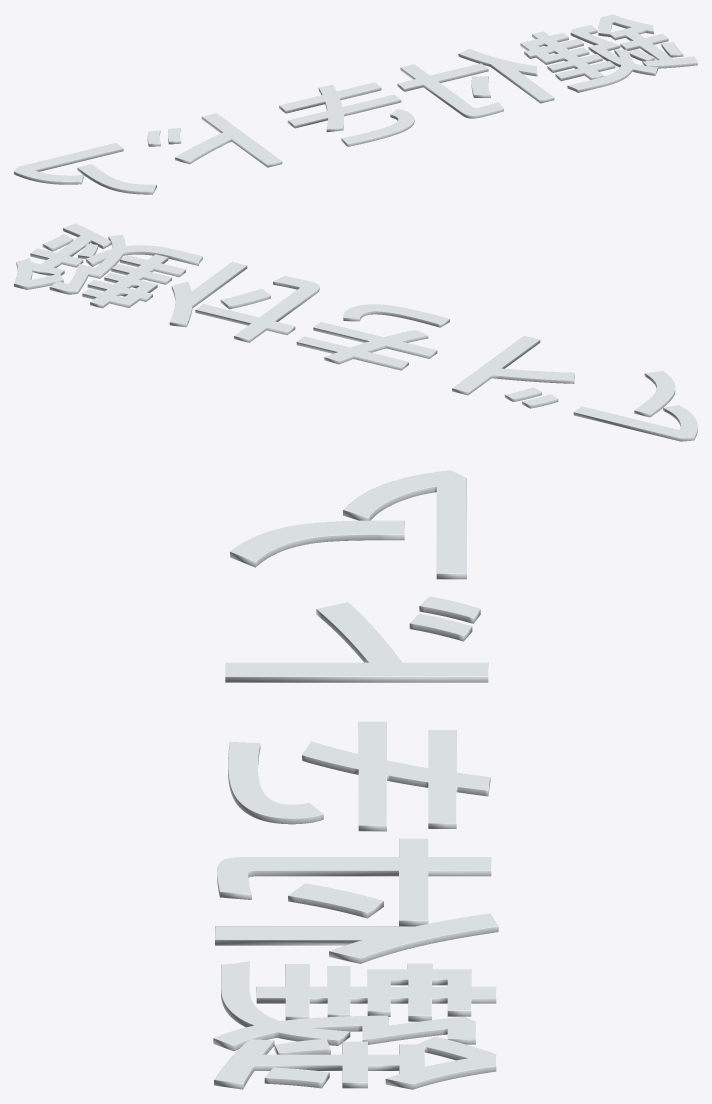
File: stage2_locked_door_name.obj
The picture shows the model from 3 angles, top to bottom: view 1: azimuth 30°, elevation 25°; view 2: azimuth 150°, elevation 25°; view 3: azimuth 270°, elevation 25°; orthographic projection. The views are drawn at different scales.
Visible parts, largest first — view 1: stage2_locked_door_name; view 2: stage2_locked_door_name; view 3: stage2_locked_door_name.
Part boxes in pixels (x1,y1,x2,y2): stage2_locked_door_name: (14, 14, 697, 194); stage2_locked_door_name: (14, 223, 697, 441); stage2_locked_door_name: (213, 470, 498, 1089).
Size of the model in its own units: 2.75 by 0.0123 by 0.5405.
1 material, 1 textured.
